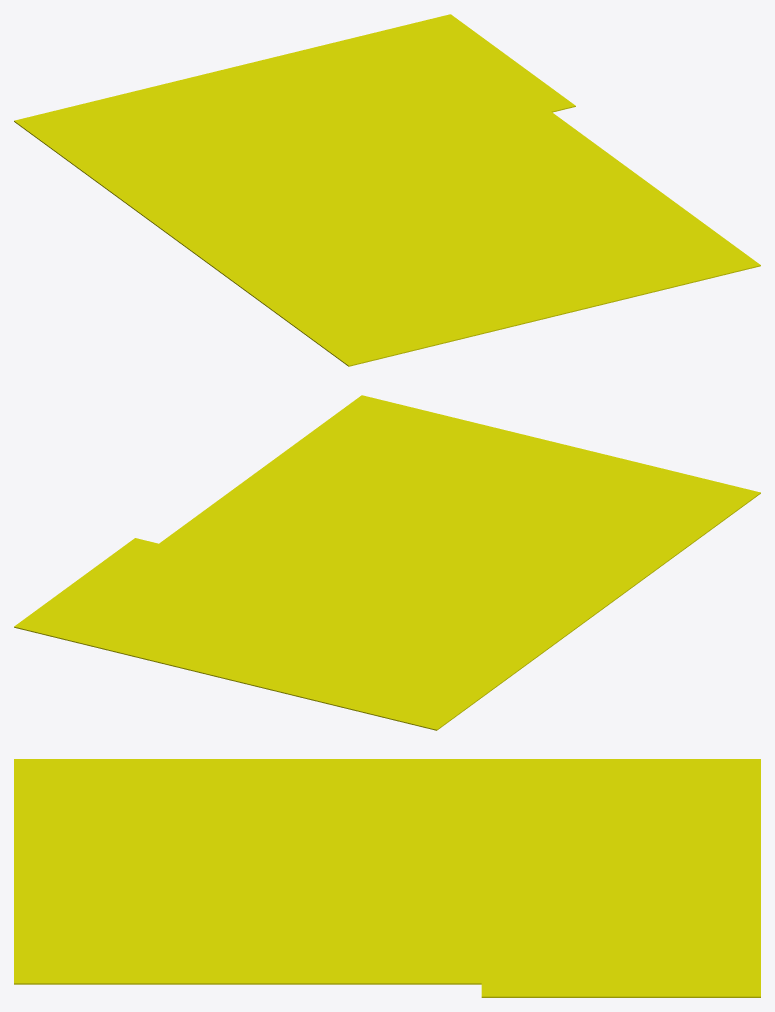
The model's file is sm_hana_building_b5f_ceiling.glb.
The picture shows the model from 3 angles, top to bottom: view 1: azimuth 30°, elevation 25°; view 2: azimuth 150°, elevation 25°; view 3: azimuth 270°, elevation 25°; orthographic projection. The views are drawn at different scales.
Parts seen in each view (by area): view 1: sm_hana_building_b5f_ceiling; view 2: sm_hana_building_b5f_ceiling; view 3: sm_hana_building_b5f_ceiling.
Part boxes in pixels (left/top/right/bottom): sm_hana_building_b5f_ceiling: left=14, top=14, right=760, bottom=366; sm_hana_building_b5f_ceiling: left=14, top=395, right=760, bottom=730; sm_hana_building_b5f_ceiling: left=14, top=759, right=760, bottom=997.
Size of the model in its own units: 86.61 by 0.2036 by 115.
Materials: 1 (1 with a texture image).
